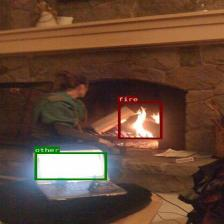fire: (118, 101, 162, 139)
